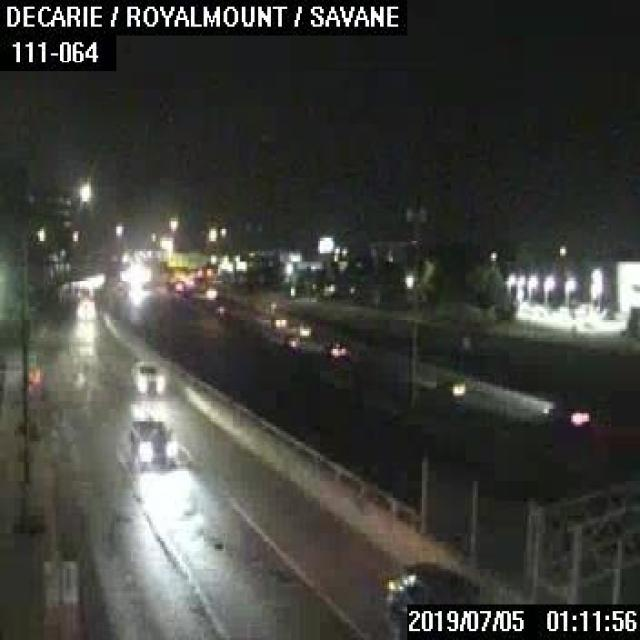vehicle: (381, 558, 476, 638), (127, 416, 180, 462), (540, 402, 589, 429), (132, 359, 164, 393), (432, 371, 463, 396), (320, 338, 349, 358), (281, 332, 300, 347), (269, 315, 285, 326)
